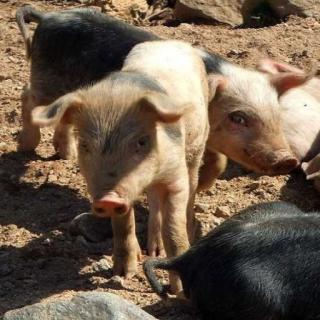Pig: (23, 0, 306, 184), (56, 26, 228, 251)
